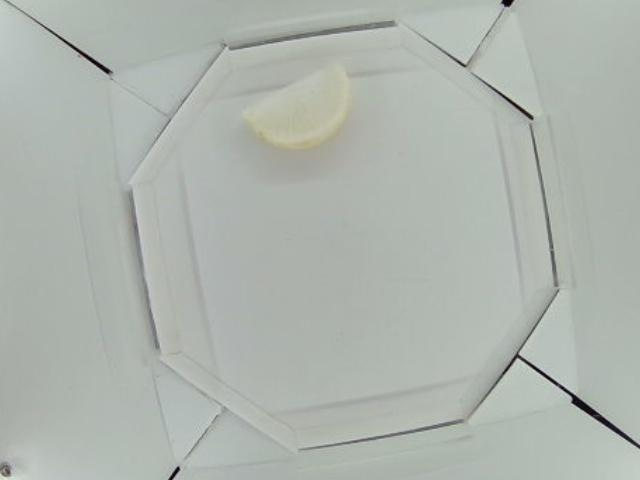Mooli: (240, 62, 353, 150)
